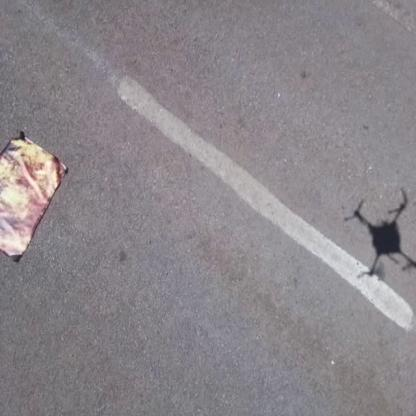fire-poster: (0, 128, 69, 263)
